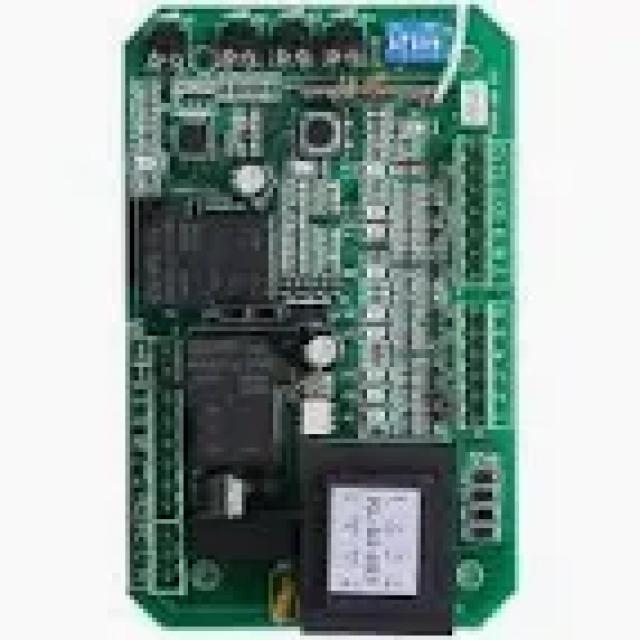pcb: (117, 0, 520, 636), (295, 457, 452, 636), (318, 470, 425, 600)
